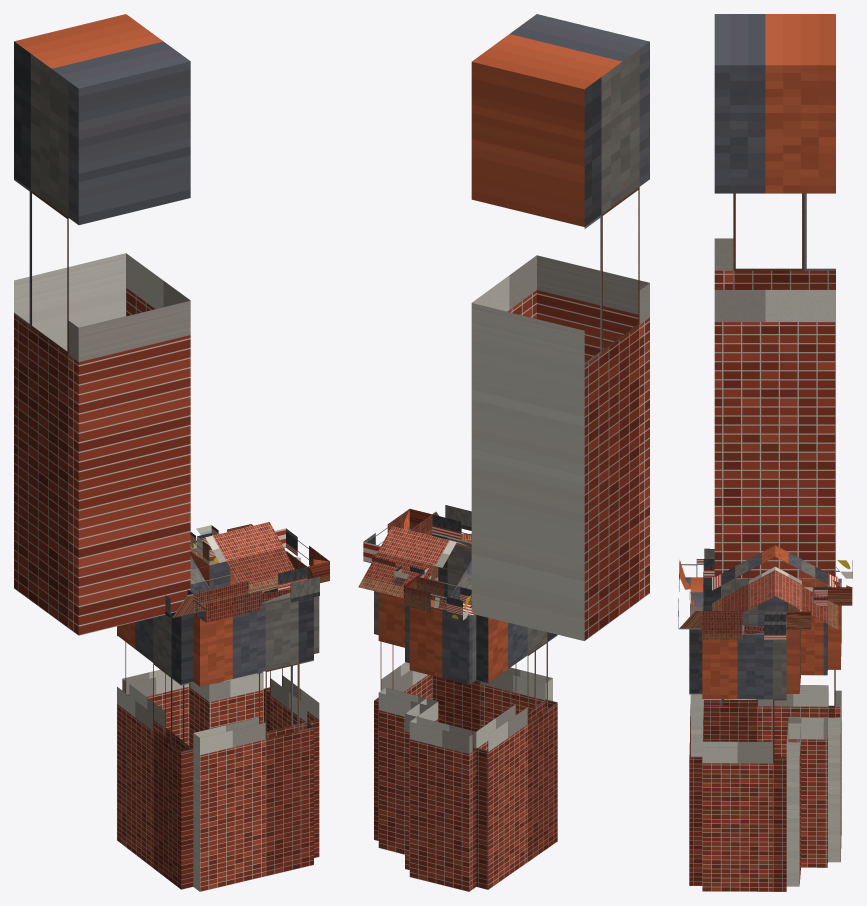
3 renders of one model, left to right at view 1: azimuth 30°, elevation 25°; view 2: azimuth 150°, elevation 25°; view 3: azimuth 270°, elevation 25°, orthographic. The views are drawn at different scales.
Parts seen in each view (by area): view 1: 1106965483__chimney_0_xb, 1106965483__wall_2_xb, 1106965483__wall_3_xb, 1106965483_roof_-1_xb, 1106965483__cornice_2, 1106965483__wall_1_xb, 1106965483__wall_0_xb, 1106965483__wall_4_xb, 1106965483__wall_5_xb, 1106965483__cornice_1; view 2: 1106965483__chimney_0_xb, 1106965483__wall_3_xb, 1106965483__wall_4_xb, 1106965483__wall_0_xb, 1106965483__wall_2_xb, 1106965483_roof_1_xb, 1106965483__wall_1_xb, 1106965483__cornice_4, 1106965483__wall_5_xb, 1106965483__cornice_1, 1106965483__cornice_2; view 3: 1106965483__chimney_0_xb, 1106965483__wall_1_xb, 1106965483__wall_3_xb, 1106965483__wall_5_xb, 1106965483__wall_2_xb, 1106965483__wall_0_xb, 1106965483__wall_4_xb, 1106965483_roof_1_xb, 1106965483_roof_-1_xb, 1106965483__cornice_1, 1106965483__cornice_2, 1106965483__cornice_4 (+1 smaller).
Boxes of the visible parts, left/top/right/bottom form: 1106965483__chimney_0_xb: left=14, top=14, right=190, bottom=635; 1106965483__wall_2_xb: left=193, top=592, right=313, bottom=891; 1106965483__wall_3_xb: left=117, top=612, right=193, bottom=889; 1106965483_roof_-1_xb: left=190, top=522, right=294, bottom=593; 1106965483__cornice_2: left=193, top=566, right=319, bottom=622; 1106965483__wall_1_xb: left=263, top=588, right=319, bottom=857; 1106965483__wall_0_xb: left=209, top=562, right=263, bottom=728; 1106965483__wall_4_xb: left=122, top=642, right=188, bottom=745; 1106965483__wall_5_xb: left=189, top=548, right=220, bottom=748; 1106965483__cornice_1: left=275, top=528, right=329, bottom=582; 1106965483__chimney_0_xb: left=471, top=14, right=649, bottom=640; 1106965483__wall_3_xb: left=476, top=615, right=557, bottom=889; 1106965483__wall_4_xb: left=409, top=599, right=476, bottom=891; 1106965483__wall_0_xb: left=378, top=592, right=430, bottom=854; 1106965483__wall_2_xb: left=432, top=534, right=552, bottom=731; 1106965483_roof_1_xb: left=358, top=526, right=474, bottom=615; 1106965483__wall_1_xb: left=374, top=534, right=432, bottom=840; 1106965483__cornice_4: left=403, top=576, right=472, bottom=620; 1106965483__wall_5_xb: left=405, top=606, right=438, bottom=869; 1106965483__cornice_1: left=363, top=509, right=432, bottom=563; 1106965483__cornice_2: left=432, top=505, right=471, bottom=543; 1106965483__chimney_0_xb: left=714, top=14, right=835, bottom=578; 1106965483__wall_1_xb: left=702, top=632, right=786, bottom=891; 1106965483__wall_3_xb: left=704, top=577, right=828, bottom=756; 1106965483__wall_5_xb: left=788, top=610, right=827, bottom=867; 1106965483__wall_2_xb: left=689, top=577, right=703, bottom=885; 1106965483__wall_0_xb: left=786, top=629, right=801, bottom=886; 1106965483__wall_4_xb: left=828, top=578, right=841, bottom=862; 1106965483_roof_1_xb: left=775, top=545, right=838, bottom=629; 1106965483_roof_-1_xb: left=712, top=545, right=775, bottom=620; 1106965483__cornice_1: left=702, top=611, right=786, bottom=639; 1106965483__cornice_2: left=678, top=559, right=703, bottom=629; 1106965483__cornice_4: left=828, top=560, right=852, bottom=605.
Bounding box in the file's own units: 0.3289 × 1.05 × 0.2158.
1 material, 1 textured.
